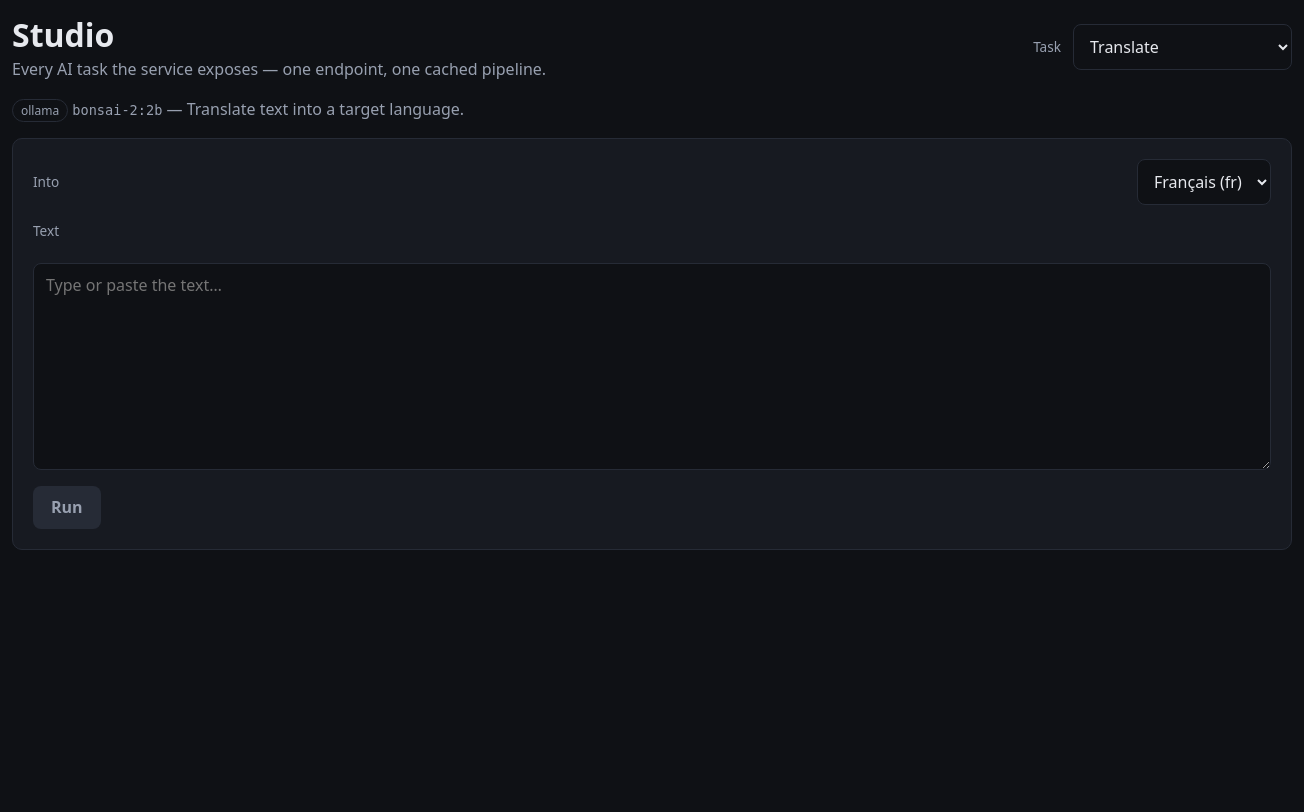
Test case: Studio › shows the generic message for a non-API failure
Type "Hello" into the text box labelled "Text" at (652,366), box [33, 263, 1271, 470]
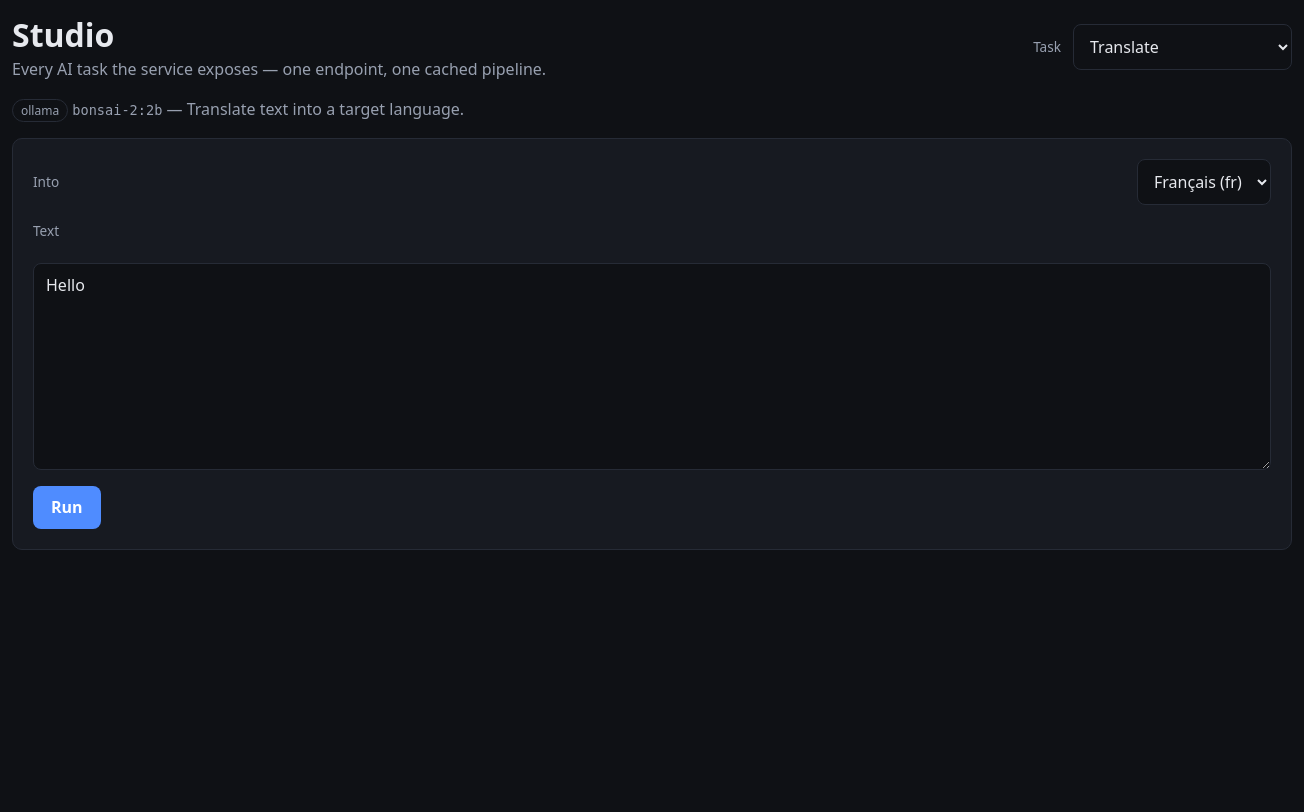
Click the button "Run" at (67,508), box [33, 486, 101, 529]
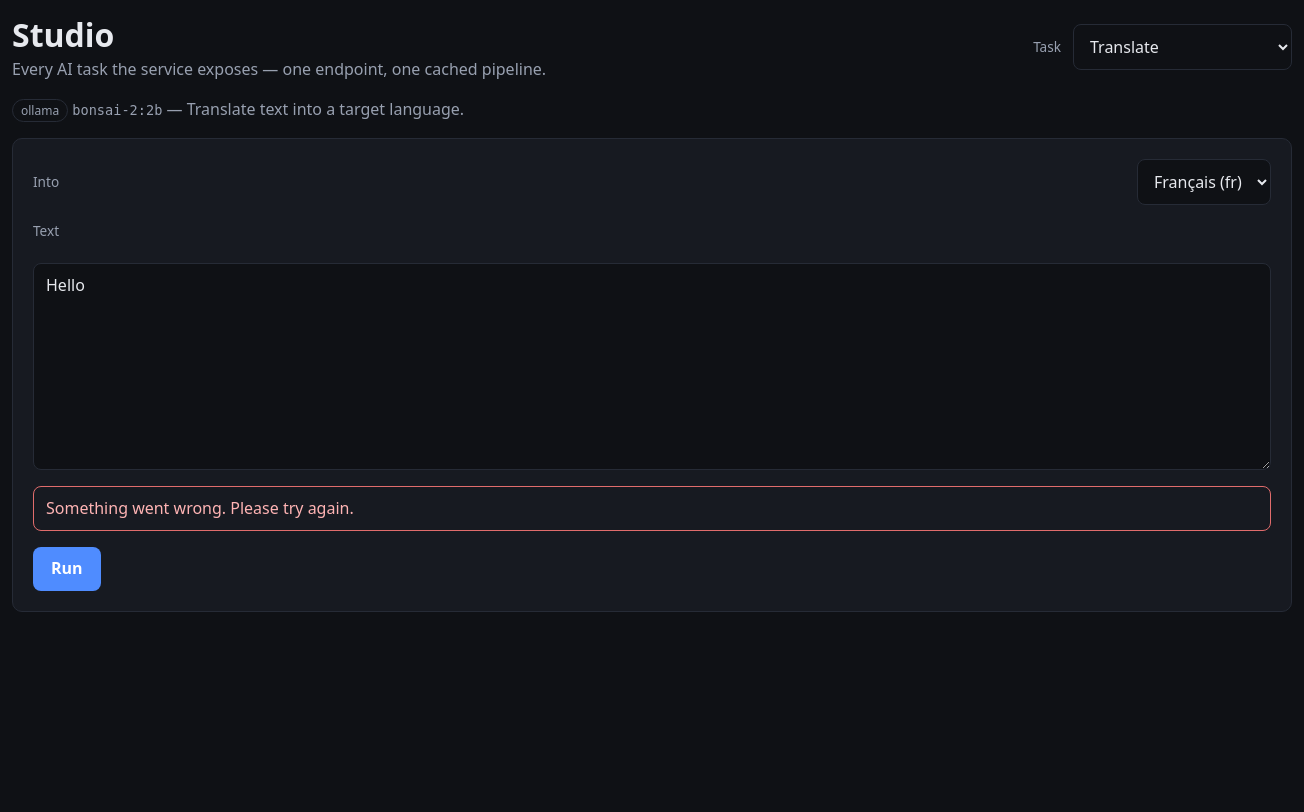
Expected: the message reads "Something went wrong. Please try again.", [46, 497, 354, 519]
